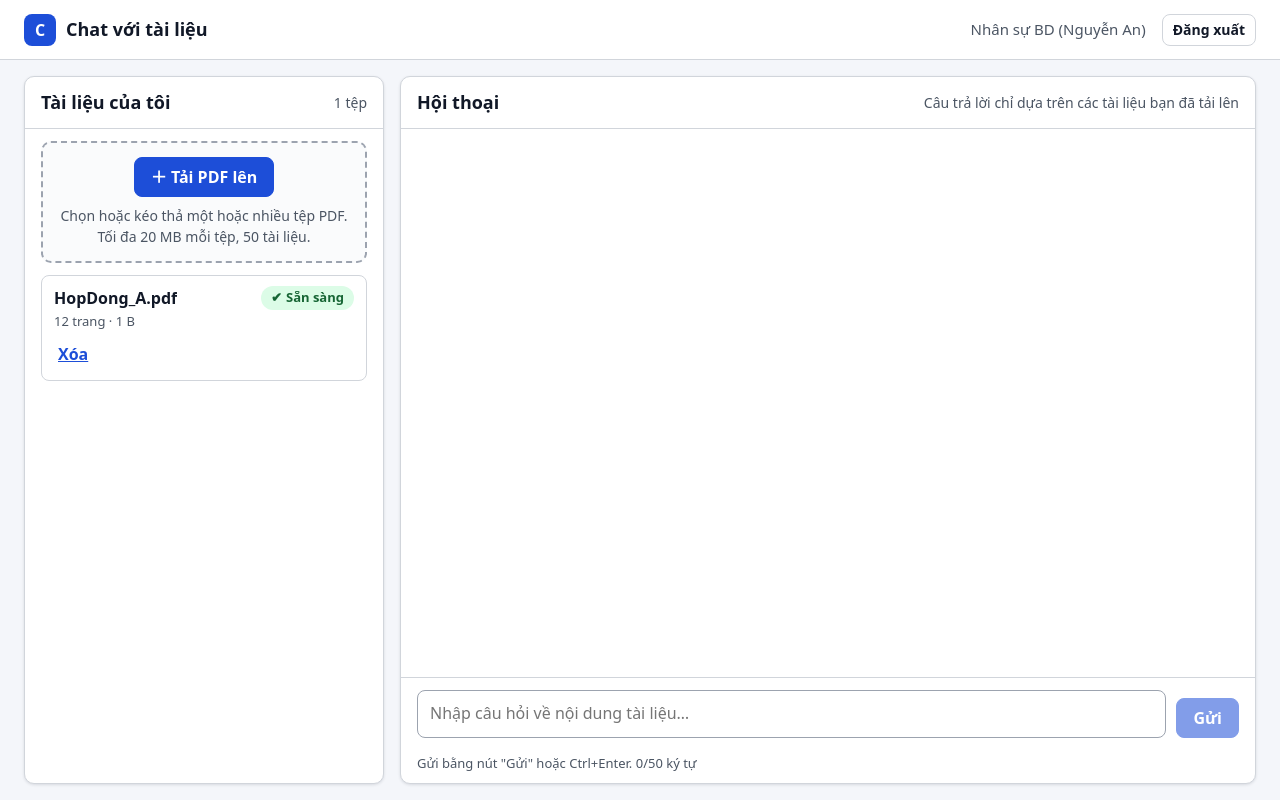
it: Hỏi đáp › chỉ báo "Đang xử lý câu hỏi…" xuất hiện ngay khi gửi; Hủy trả câu hỏi về ô nhập
Type "Câu hỏi chờ lâu" into the text box labelled "Câu hỏi của bạn" at (792, 714), box x1=417 y1=690 x2=1166 y2=738
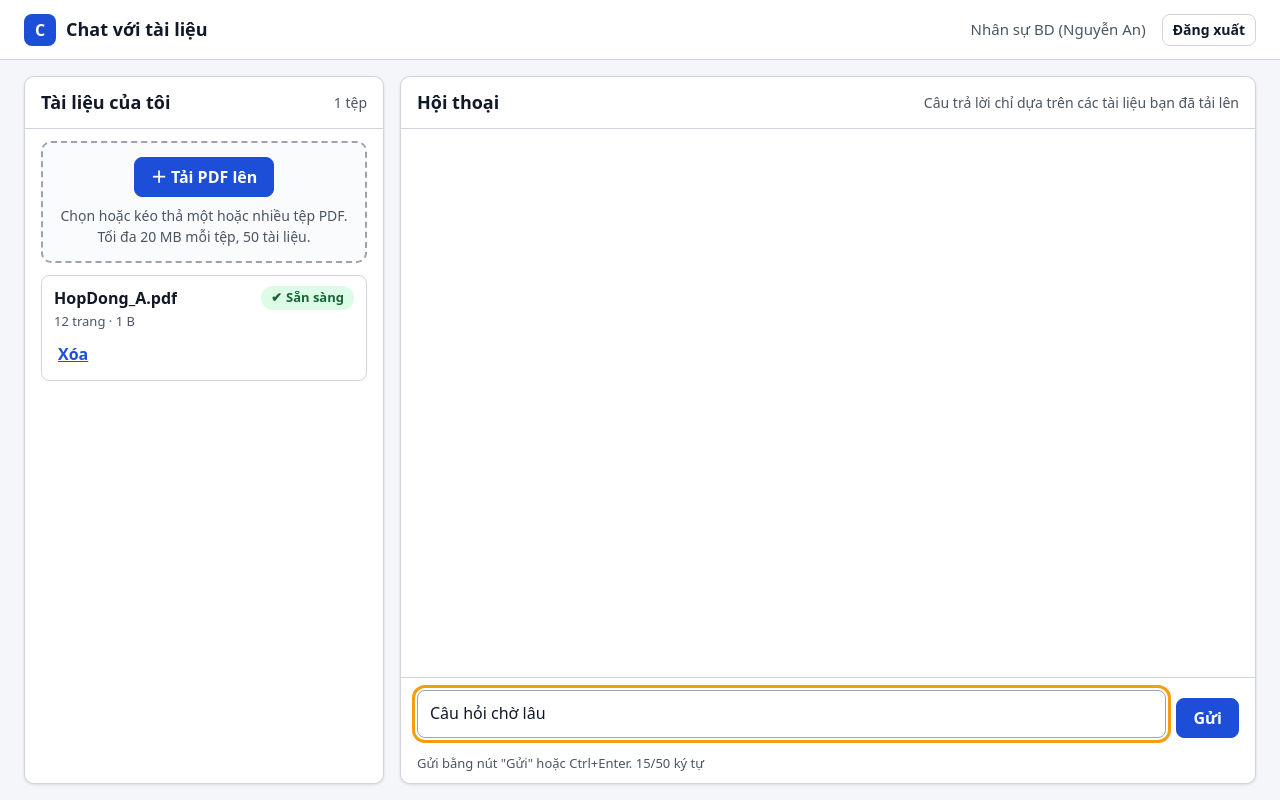
Click the button "Gửi" at (1208, 718), box x1=1176 y1=698 x2=1239 y2=738
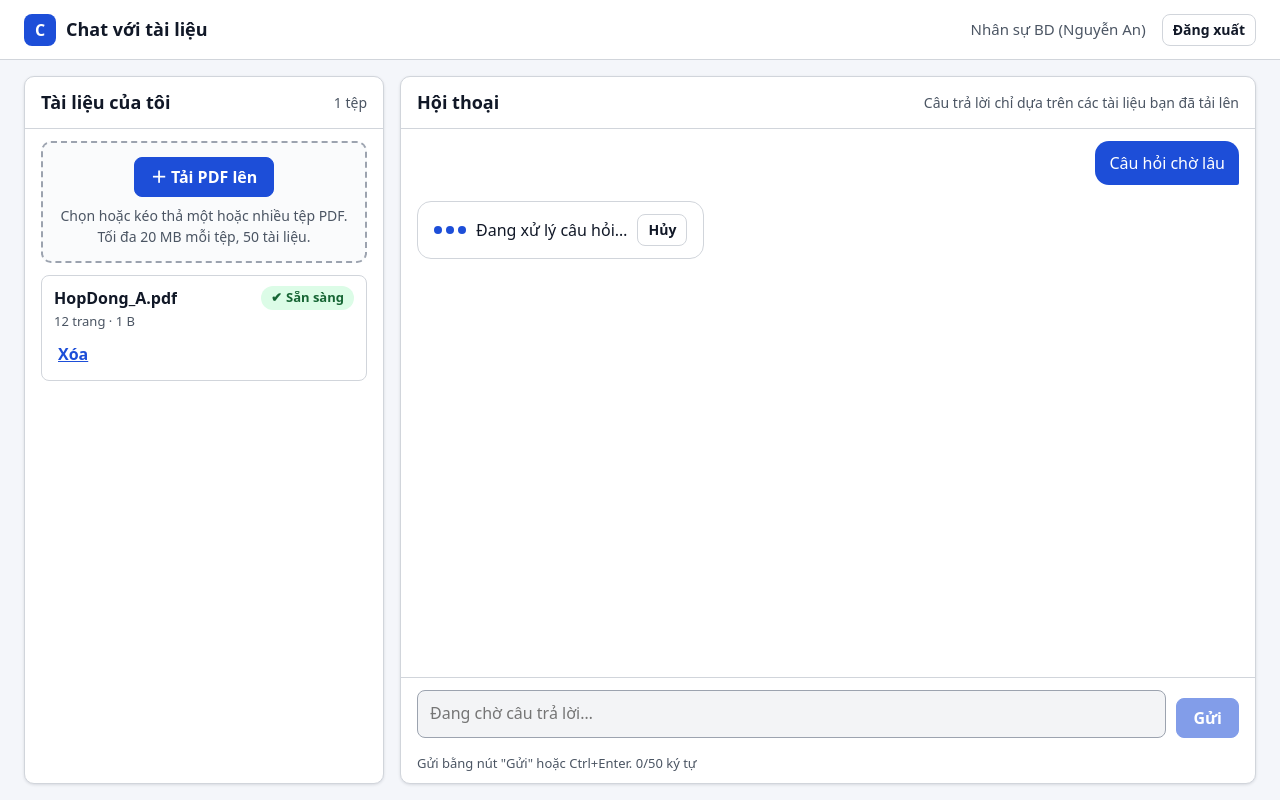
Check: the text "Đang xử lý câu hỏi…" is shown, box x1=476 y1=218 x2=628 y2=242
Check: the text box labelled "Câu hỏi của bạn" is disabled, box x1=417 y1=690 x2=1166 y2=738
Click the button "Hủy" at (662, 230), box x1=638 y1=214 x2=687 y2=246
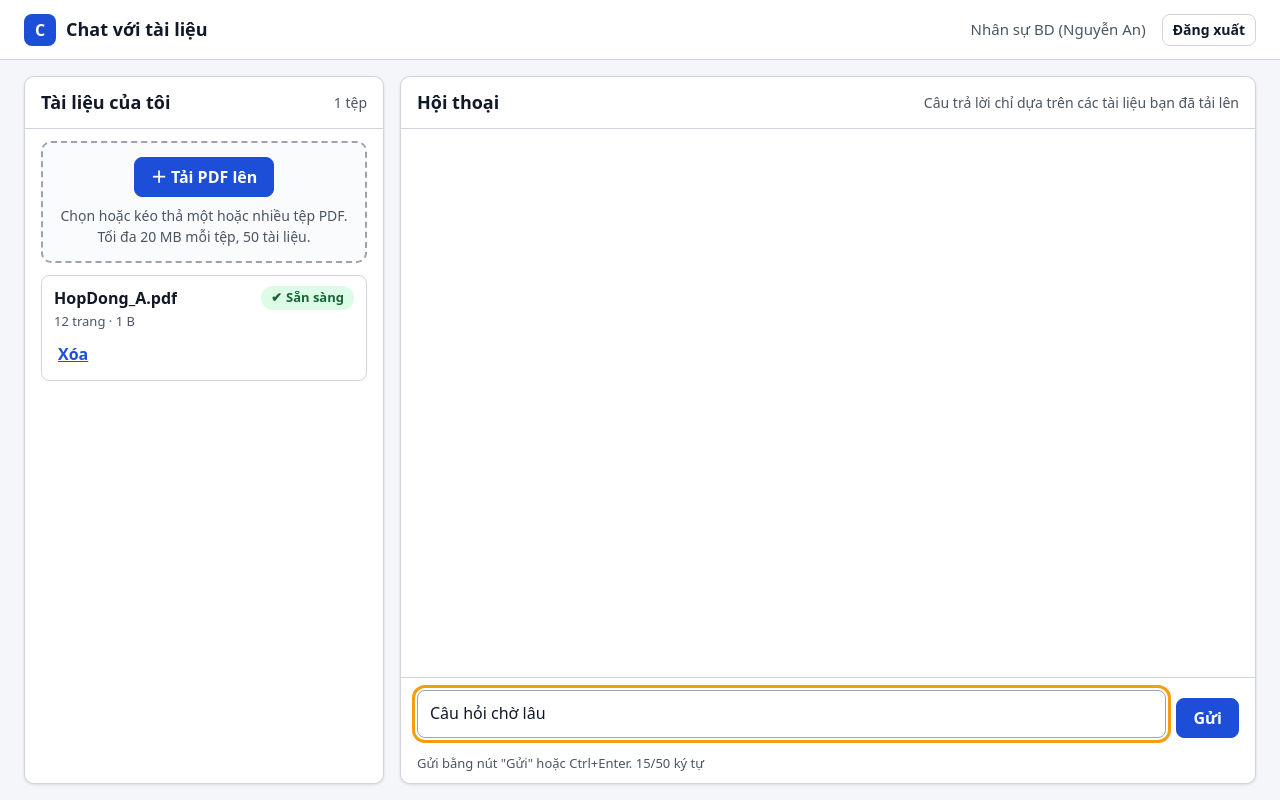
Check: the text "Đang xử lý câu hỏi…" is gone
